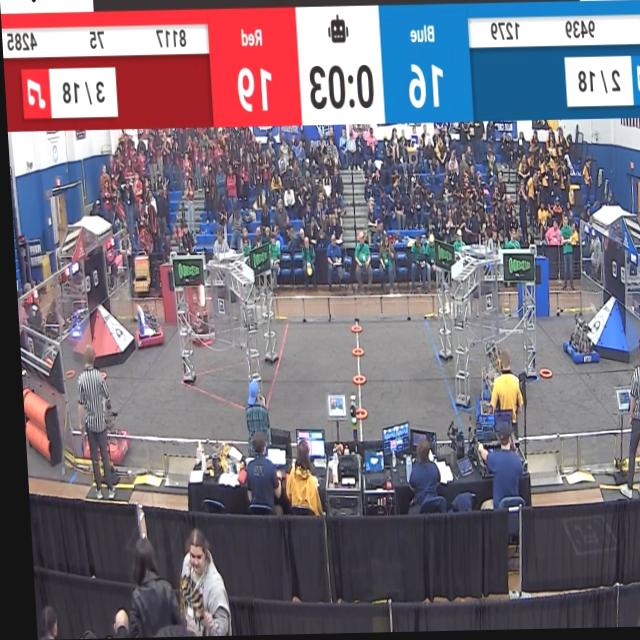Robot: (71, 360, 128, 466), (183, 270, 221, 340), (125, 278, 163, 345), (555, 313, 600, 369), (458, 380, 490, 432), (466, 349, 488, 412)
